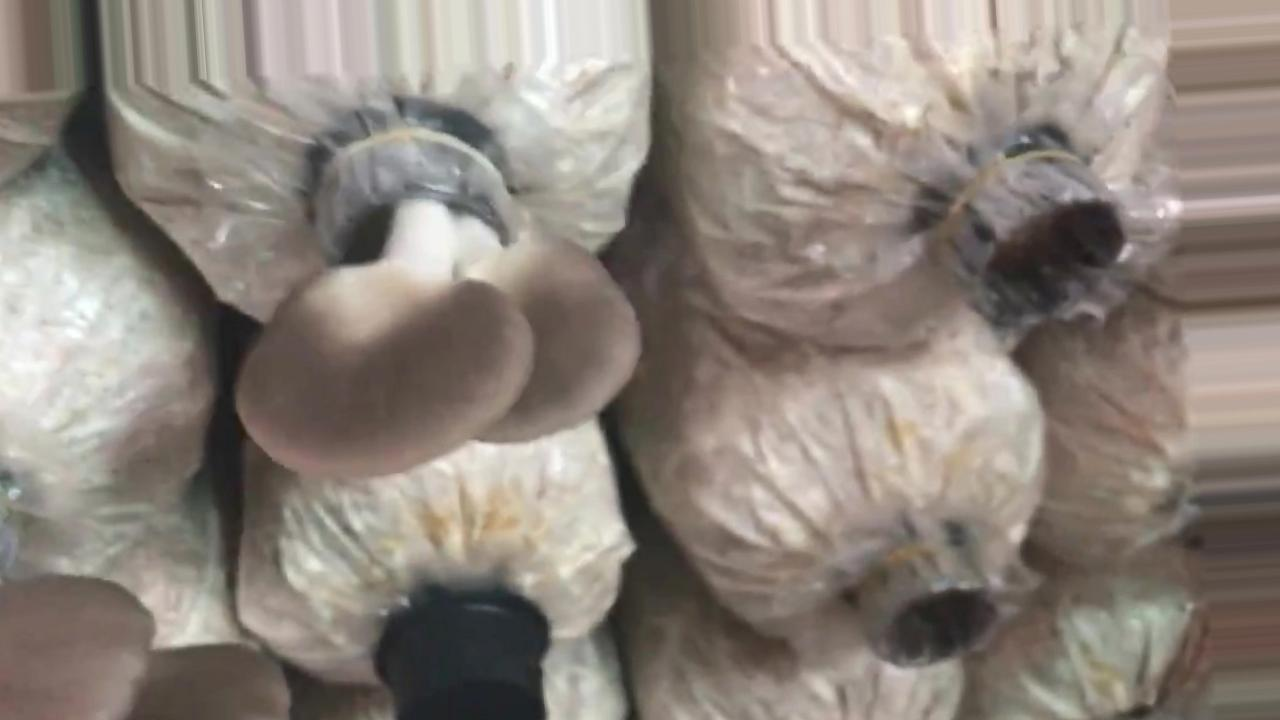nam: (250, 124, 630, 474)
